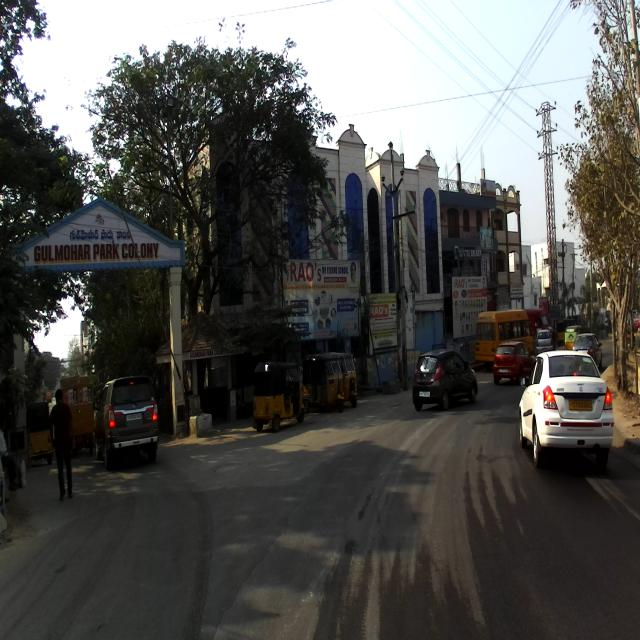auto ahead at: (255, 360, 307, 432), (317, 350, 346, 418)
car ahead at: (522, 344, 617, 464), (100, 376, 159, 466), (414, 351, 478, 408)
person ahead at: (49, 388, 80, 506)
